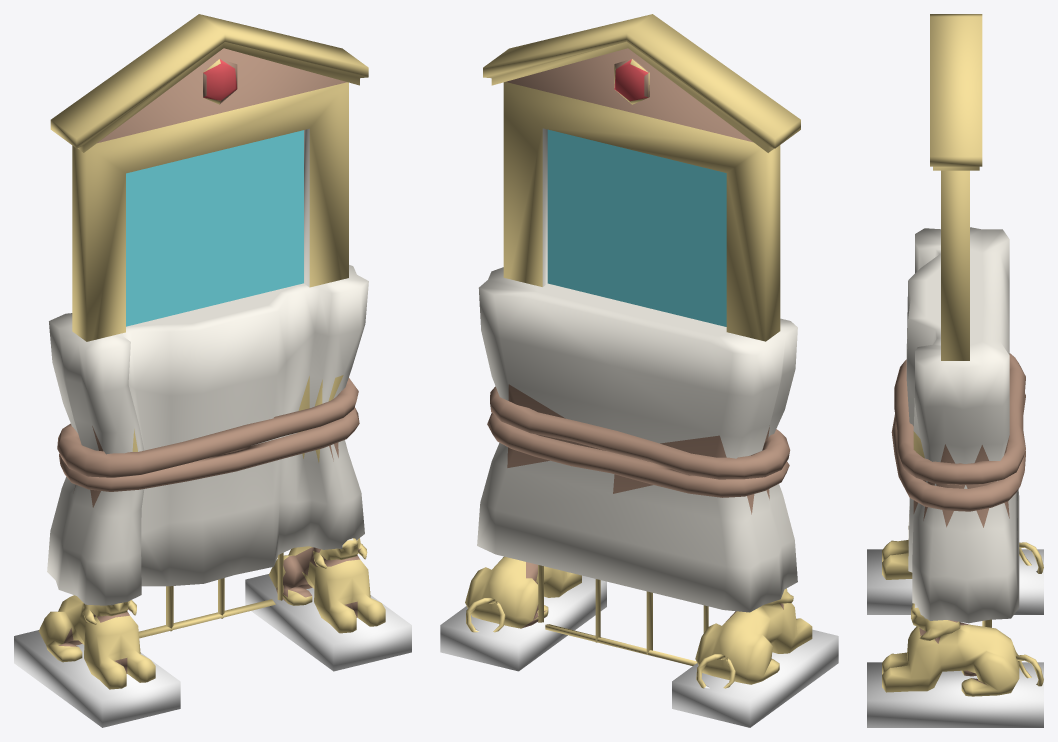
The model's file is mirror_low.glb.
3 views of the same model, side by side, from view 1: azimuth 30°, elevation 25°; view 2: azimuth 150°, elevation 25°; view 3: azimuth 270°, elevation 25° (orthographic).
Parts seen in each view (by area): view 1: tripo_node_aa93515f-cd53-4361-9ff0-6f5e7dbd61fb, glass_f; view 2: tripo_node_aa93515f-cd53-4361-9ff0-6f5e7dbd61fb, glass_b; view 3: tripo_node_aa93515f-cd53-4361-9ff0-6f5e7dbd61fb.
Part boxes in pixels (x1,y1,x2,y2): tripo_node_aa93515f-cd53-4361-9ff0-6f5e7dbd61fb: [14, 14, 411, 727]; glass_f: [126, 130, 303, 326]; tripo_node_aa93515f-cd53-4361-9ff0-6f5e7dbd61fb: [440, 14, 838, 727]; glass_b: [547, 129, 726, 326]; tripo_node_aa93515f-cd53-4361-9ff0-6f5e7dbd61fb: [867, 14, 1043, 727].
Bounding box in the file's own units: 0.5098 × 0.998 × 0.252.
